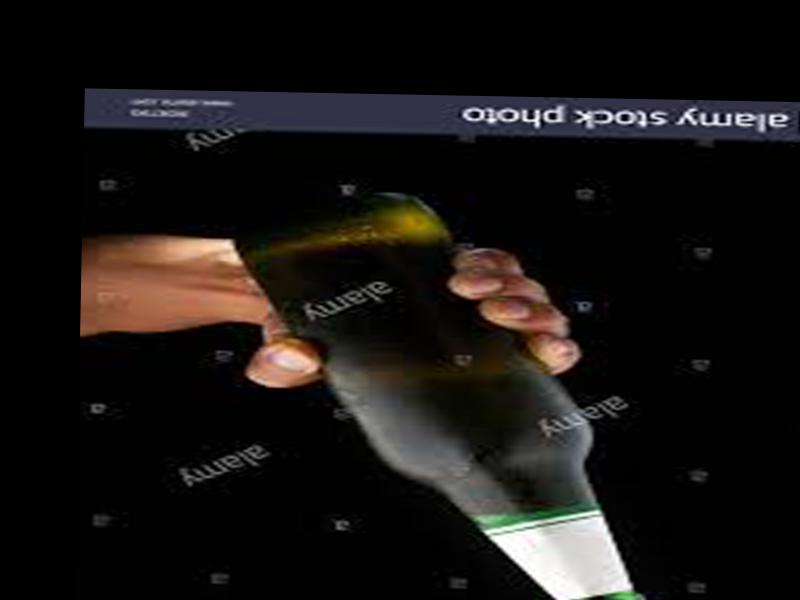Beer: (227, 184, 669, 600)
